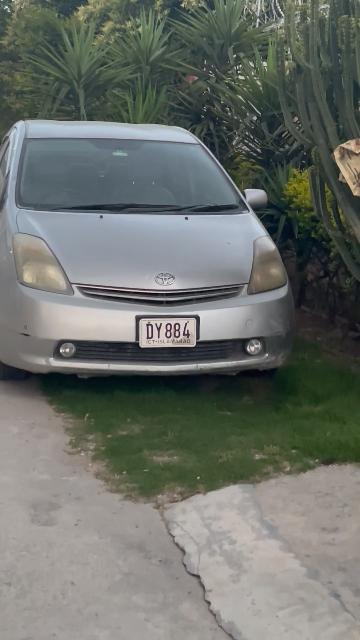plate: (139, 316, 199, 348)
